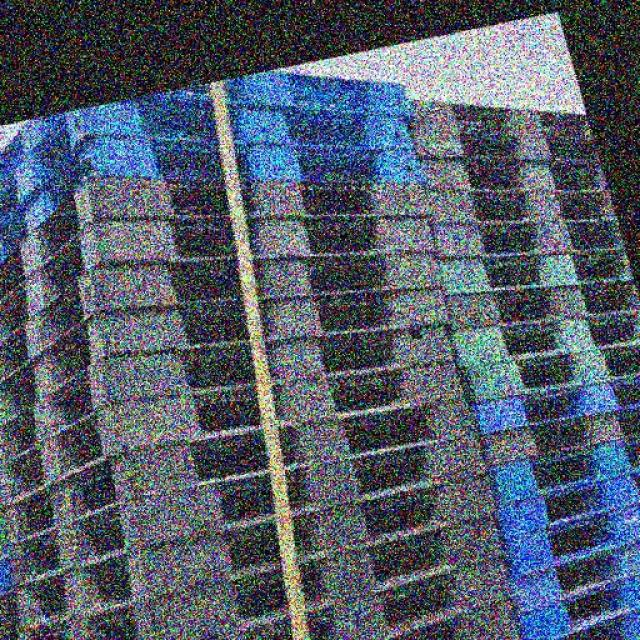non-igps: (0, 171, 525, 640), (403, 66, 640, 470), (0, 60, 442, 267), (483, 432, 640, 640)
